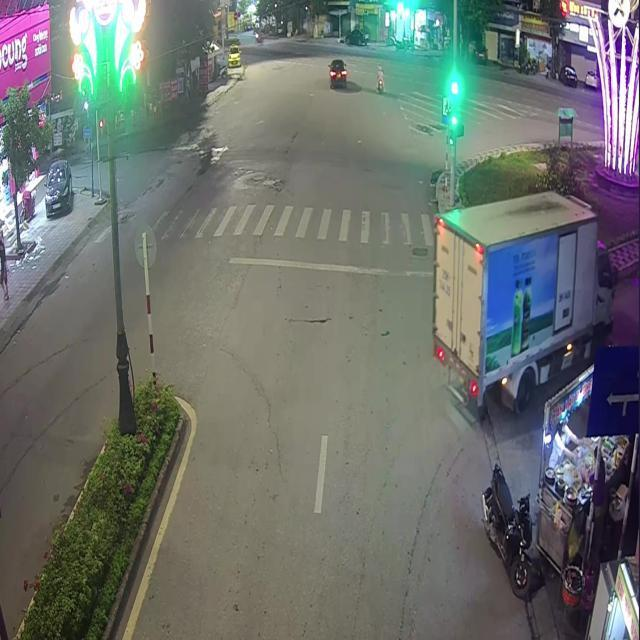car: (432, 190, 617, 418)
green_light: (450, 92, 457, 125)
stop_line: (226, 256, 440, 277)
